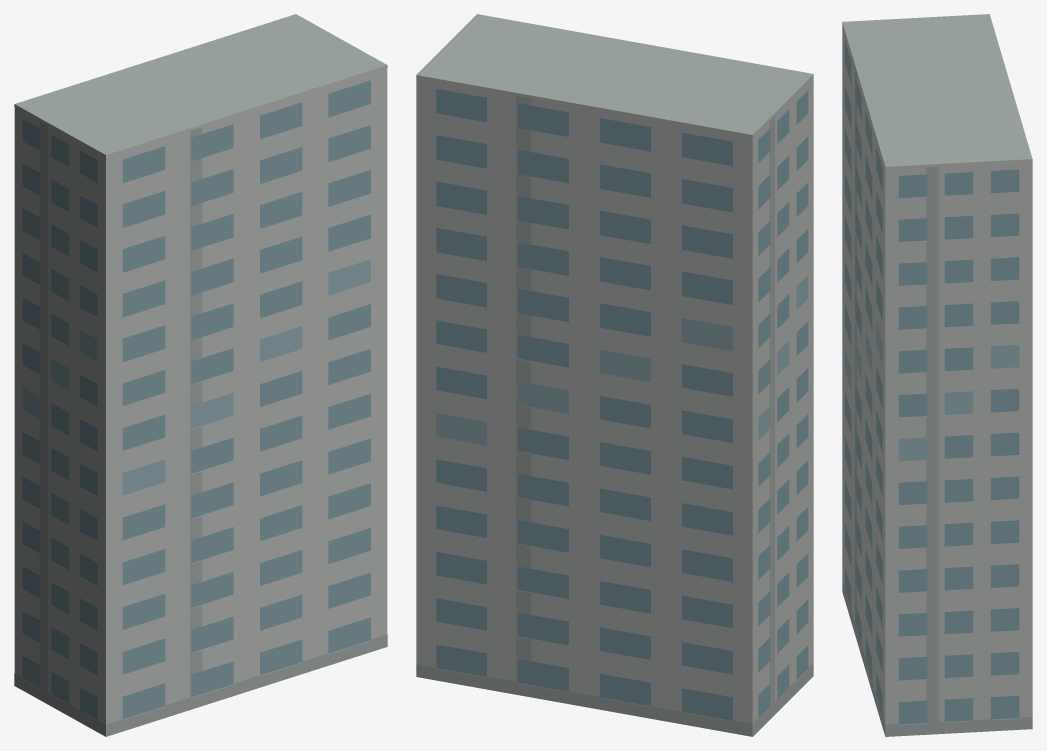
The model's file is residential-d4a25fd6-da80-404c-bf39-0e9b39fcf3eb.glb.
3 views of the same model, side by side, from view 1: azimuth 30°, elevation 25°; view 2: azimuth 150°, elevation 25°; view 3: azimuth 270°, elevation 25° (orthographic). The views are drawn at different scales.
Parts seen in each view (by area): view 1: residential-d4a25fd6-da80-404c-bf39-0e9b39fcf3eb.tmp; view 2: residential-d4a25fd6-da80-404c-bf39-0e9b39fcf3eb.tmp; view 3: residential-d4a25fd6-da80-404c-bf39-0e9b39fcf3eb.tmp.
Boxes of the visible parts, left/top/right/bottom form: residential-d4a25fd6-da80-404c-bf39-0e9b39fcf3eb.tmp: left=14, top=14, right=387, bottom=736; residential-d4a25fd6-da80-404c-bf39-0e9b39fcf3eb.tmp: left=416, top=14, right=813, bottom=736; residential-d4a25fd6-da80-404c-bf39-0e9b39fcf3eb.tmp: left=842, top=14, right=1032, bottom=736.
Size of the model in its own units: 28.19 by 49 by 14.83.
